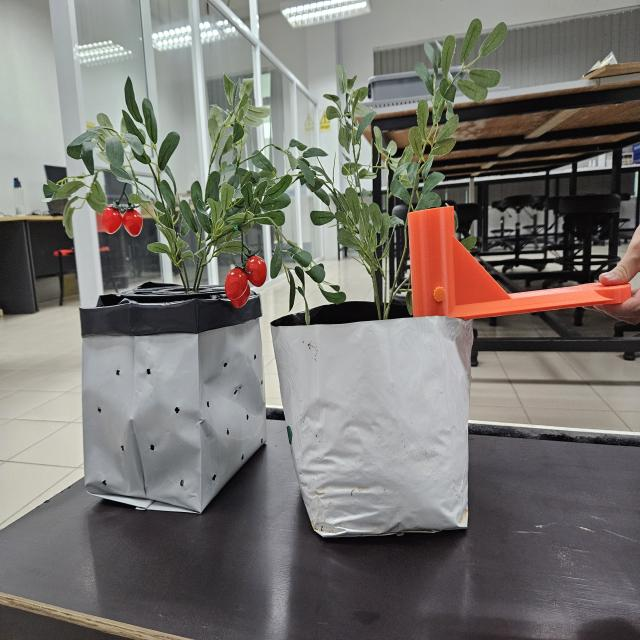EndEffector: (409, 208, 631, 321)
Soilbag: (271, 317, 476, 542), (79, 295, 267, 516)
Tomato: (222, 254, 269, 313), (97, 199, 144, 237)
plant: (43, 76, 347, 311), (282, 18, 508, 321)
